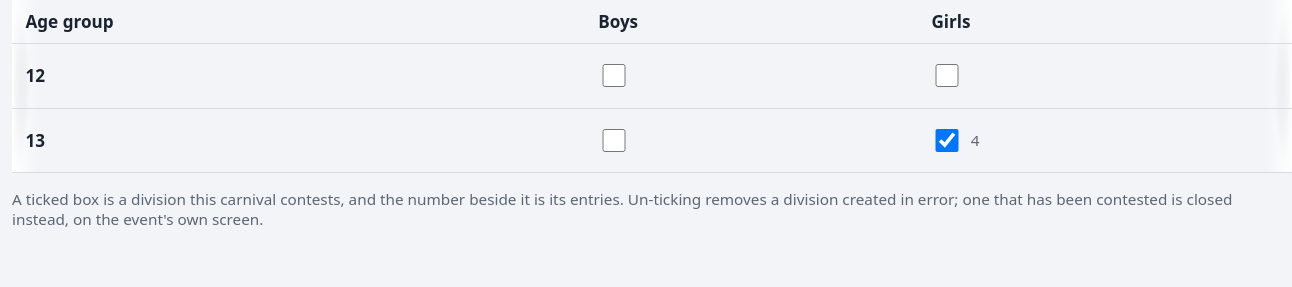
DivisionGrid — live › refuses an un-tick against the box that was clicked, and points at closing
What coordinates should you click on to do the following:
click the checkbox named "13 · Girls"
I would click on:
 (947, 140)
Its box is [935,129,959,152].
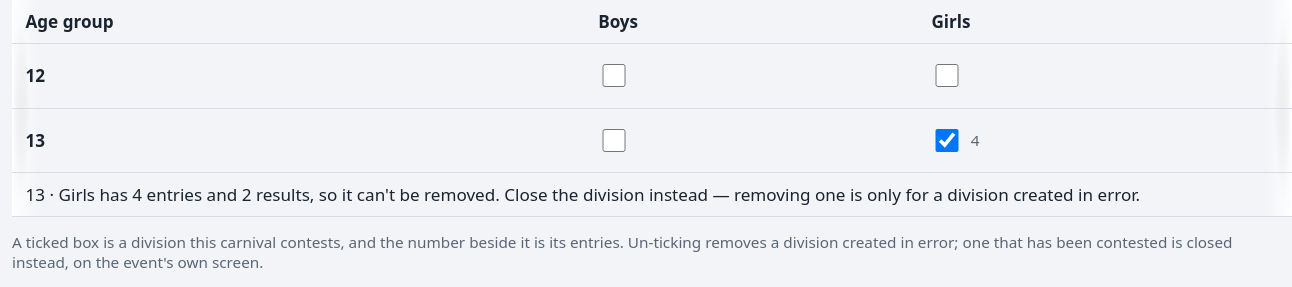
Result: the message shows "13 · Girls has 4 entries and 2 results" at [26,183,1140,206]
Result: the message shows "Close the division instead" at [26,183,1140,206]
Result: the message shows "created in error" at [26,183,1140,206]
